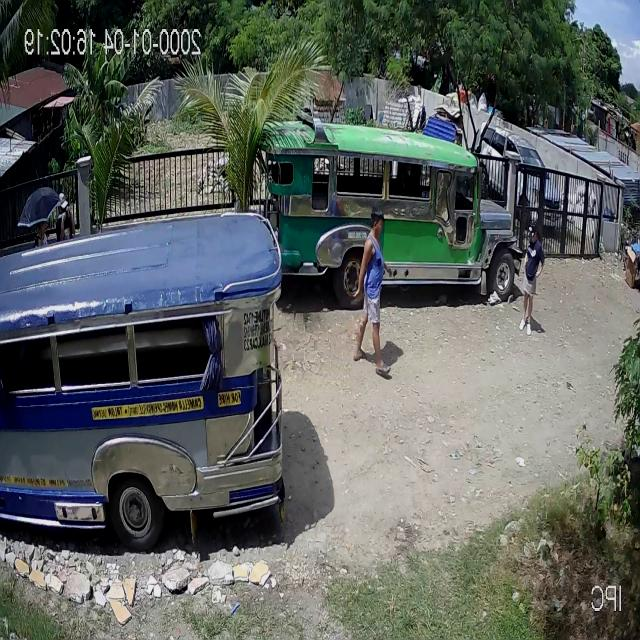standing: (517, 221, 544, 339), (53, 192, 74, 246), (32, 218, 50, 261)
walking: (356, 209, 392, 381)
